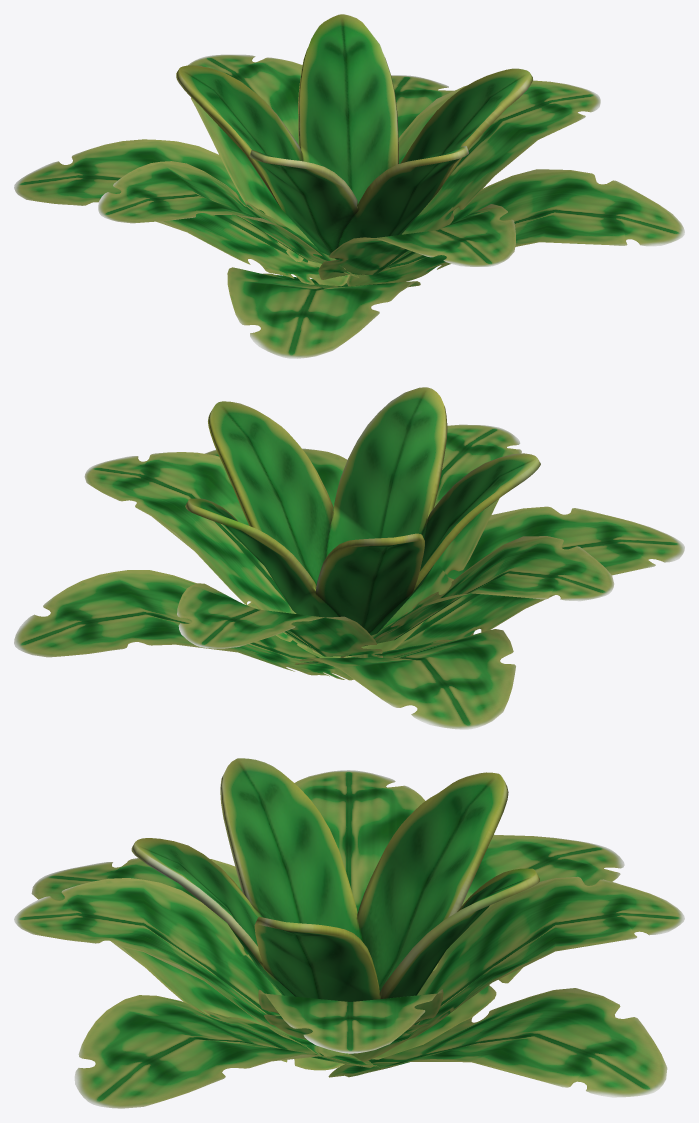
File: Matojo4.fbx
3 renders of one model, top to bottom at view 1: azimuth 30°, elevation 25°; view 2: azimuth 150°, elevation 25°; view 3: azimuth 270°, elevation 25°, orthographic. The views are drawn at different scales.
Visible parts, largest first — view 1: Matojo4; view 2: Matojo4; view 3: Matojo4.
Boxes of the visible parts, box(x1,y1,x2,y2) form: Matojo4: box(14, 14, 684, 358); Matojo4: box(14, 387, 684, 729); Matojo4: box(14, 758, 684, 1108).
Size of the model in its own units: 84.81 by 31.81 by 84.81.
